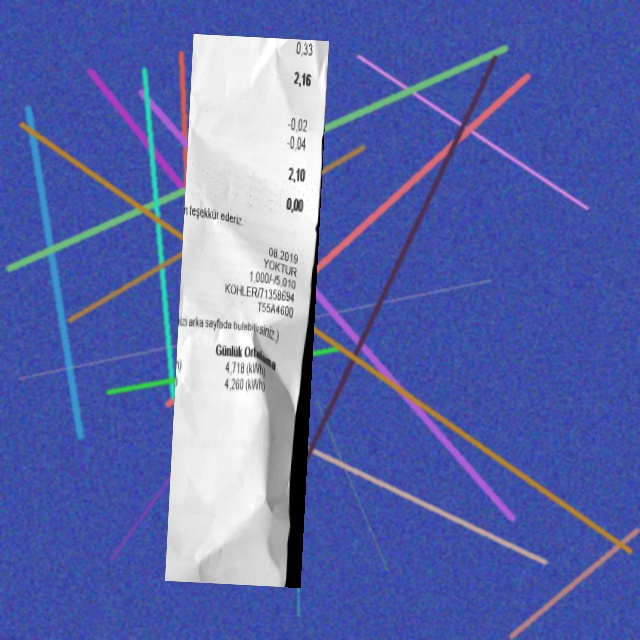electricity-bill: (164, 33, 328, 587)
